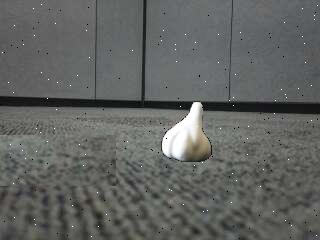Garlic: (160, 101, 213, 163)
